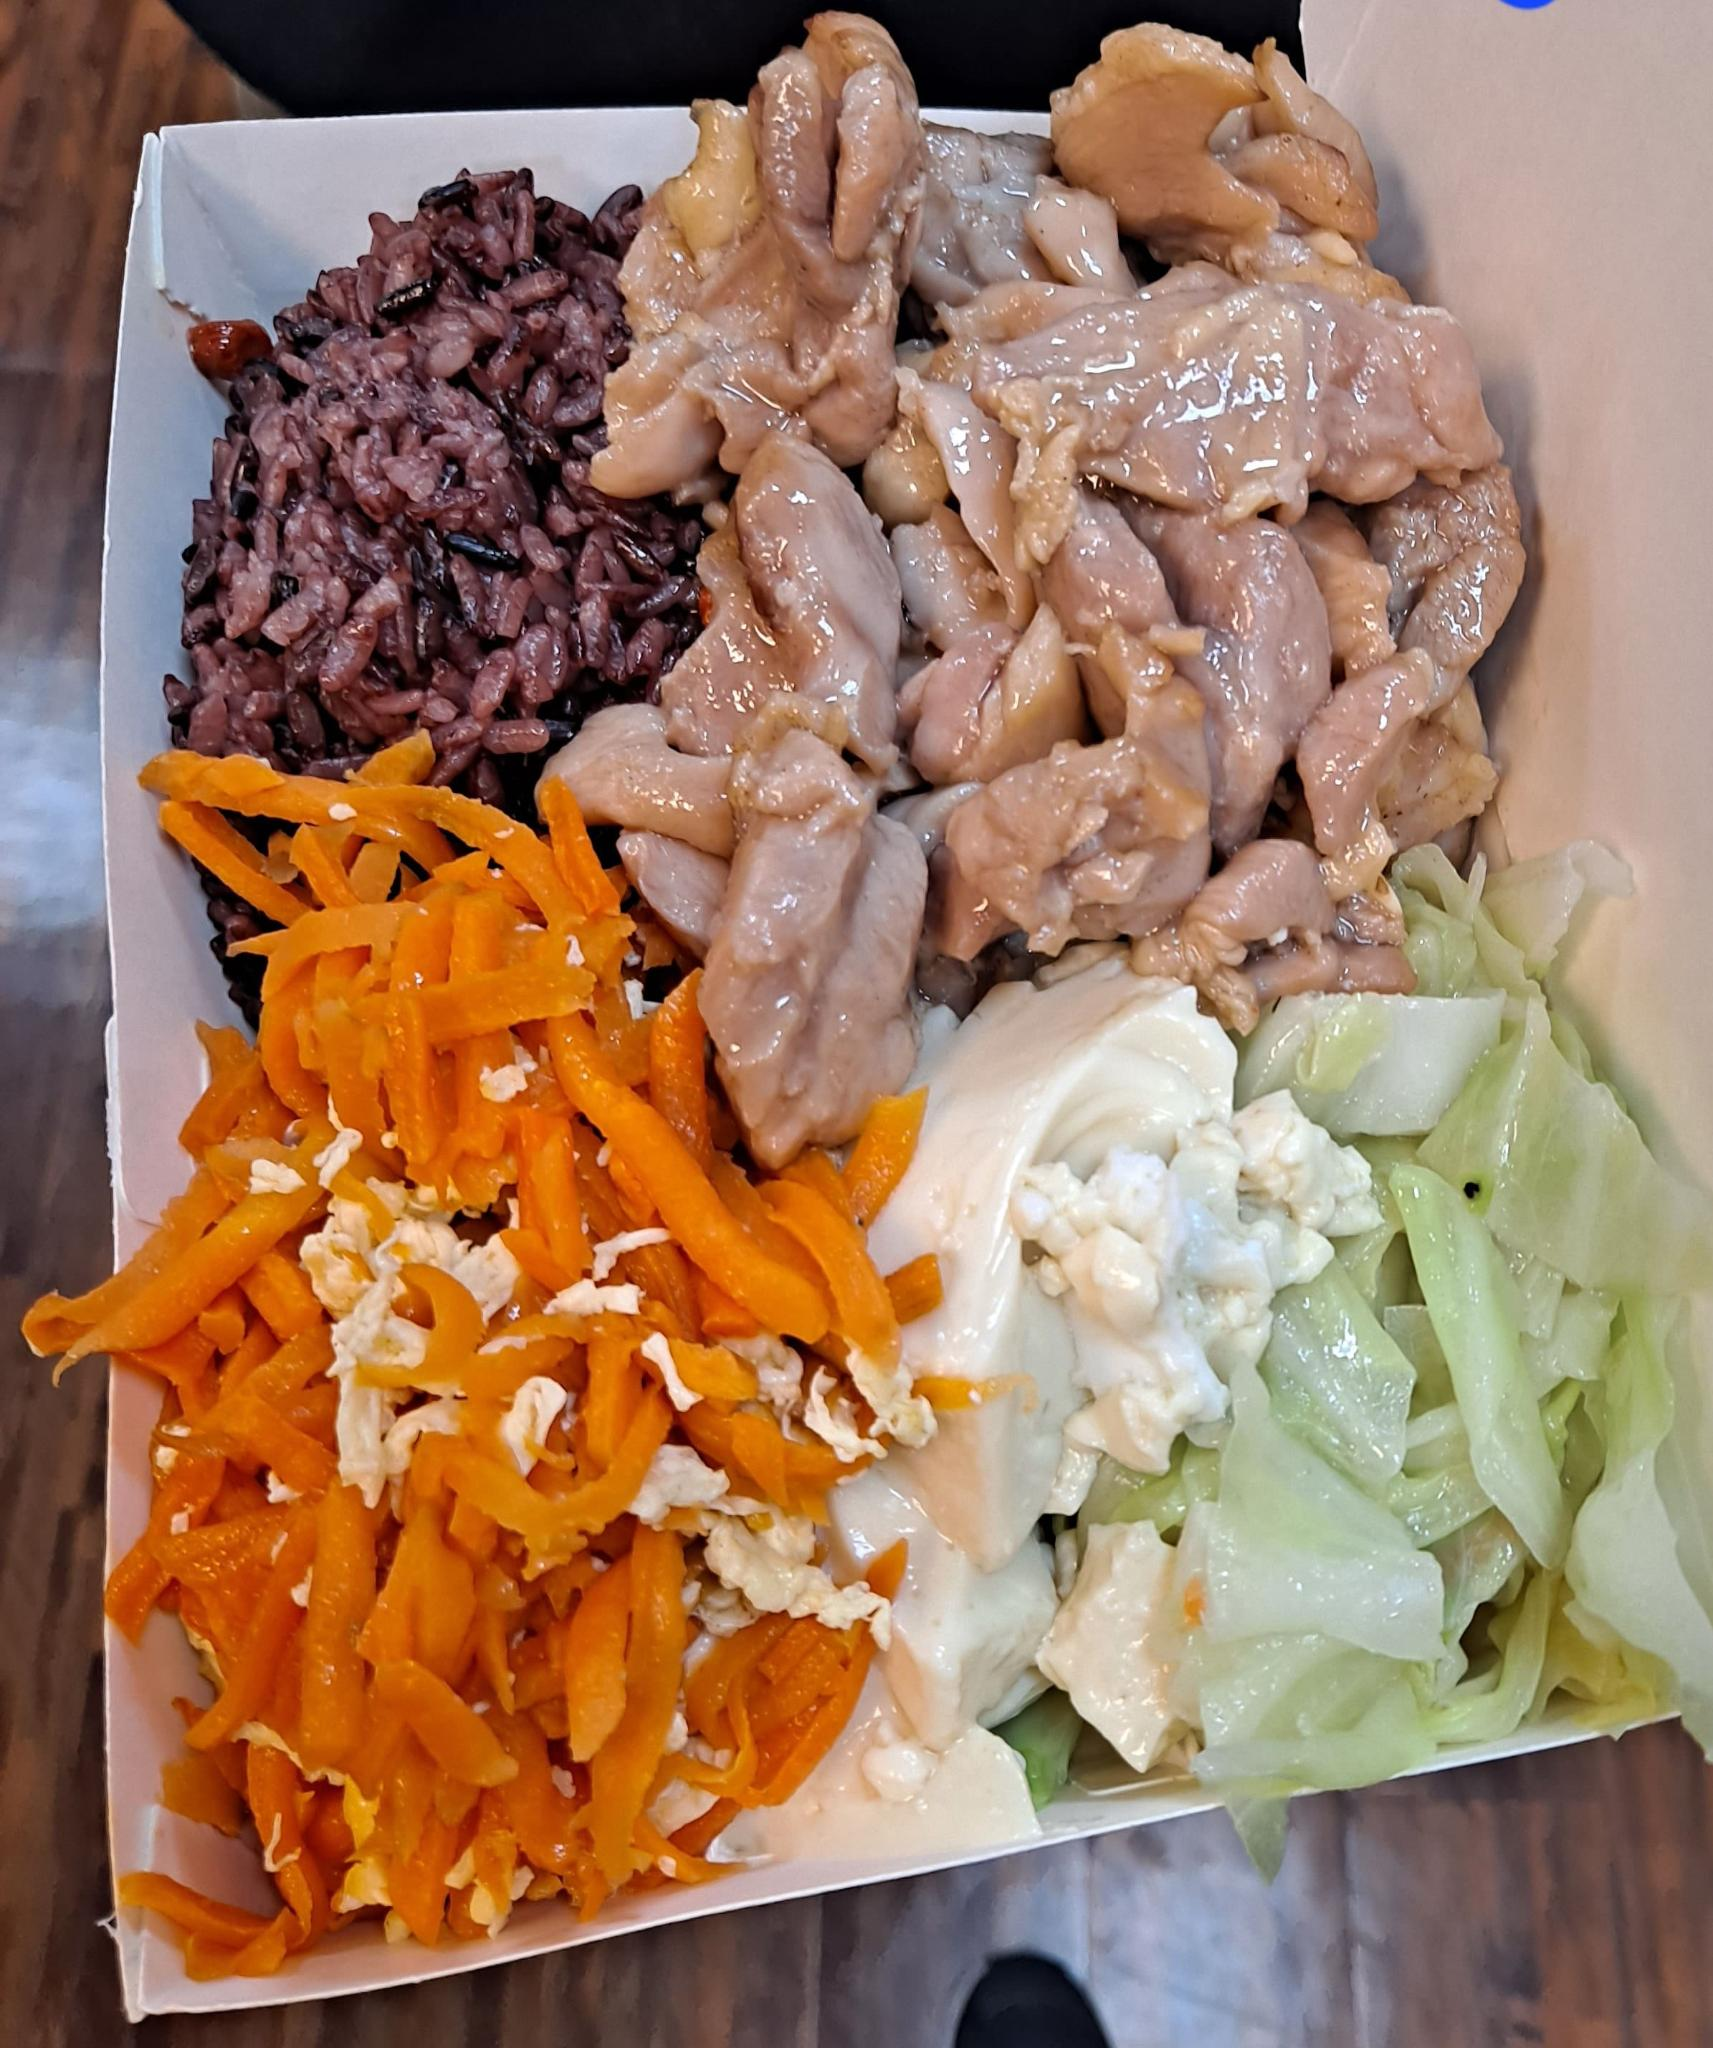big grilled chicken leg: (31, 58, 1713, 2043)
braised fish: (170, 184, 677, 1002)
braised fish fillet: (99, 743, 910, 1980), (779, 958, 1295, 1868), (1211, 893, 1699, 1803)
braised pork: (549, 27, 1546, 1143)
